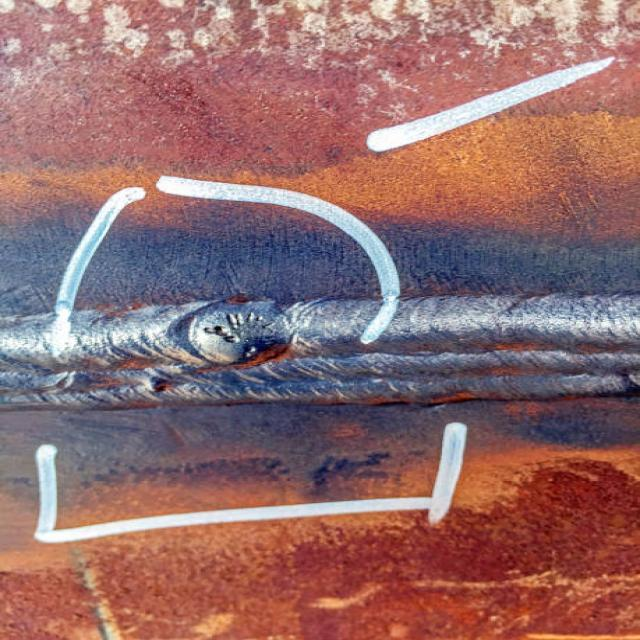Defect: (208, 313, 280, 349), (149, 373, 172, 390)
